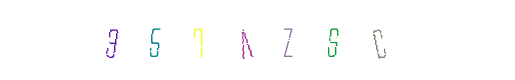3: (128, 0, 208, 80)
5: (159, 0, 239, 80)
7: (171, 0, 251, 80)
A: (209, 0, 289, 80)
C: (265, 0, 345, 80)
S: (232, 0, 312, 80)
Z: (217, 0, 297, 80)
